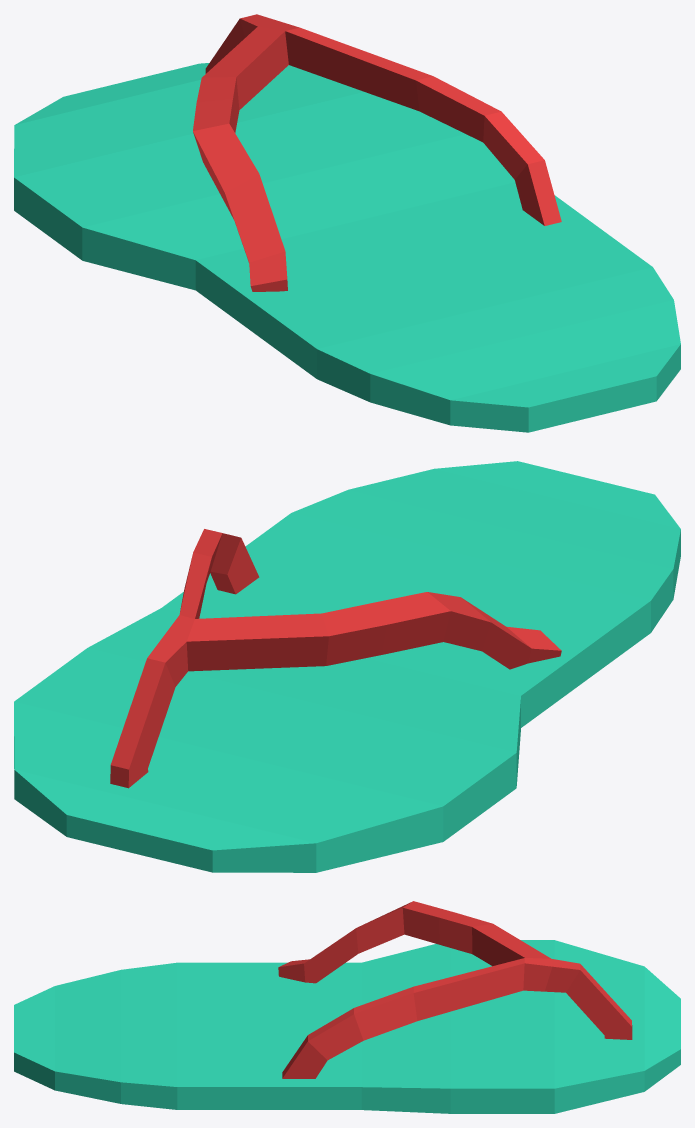
Rendered from Trash_FlipFlop.glb.
3 renders of one model, top to bottom at view 1: azimuth 30°, elevation 25°; view 2: azimuth 150°, elevation 25°; view 3: azimuth 270°, elevation 25°, orthographic. The views are drawn at different scales.
Parts seen in each view (by area): view 1: Cube.001; view 2: Cube.001; view 3: Cube.001.
Boxes of the visible parts, x1,y1,x2,y2 form: Cube.001: (14, 14, 680, 432); Cube.001: (14, 461, 680, 872); Cube.001: (14, 901, 680, 1113).
Bounding box in the file's own units: 0.3446 × 0.1114 × 0.6539.
1 material, 1 textured.
